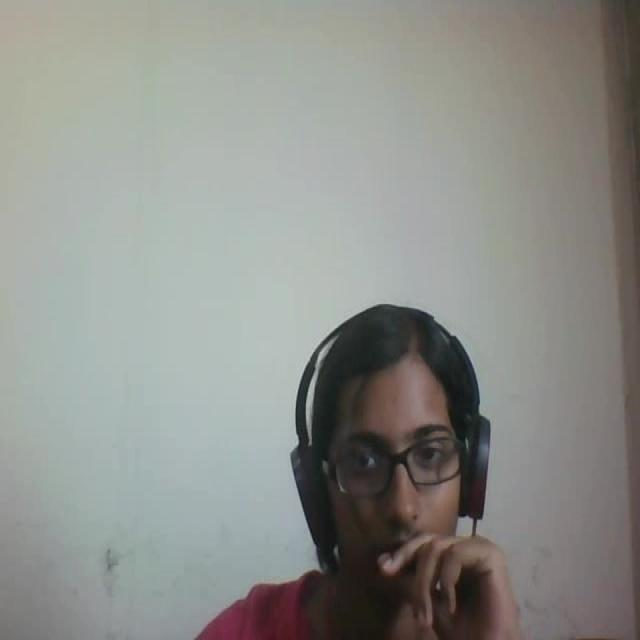Bored: (280, 295, 542, 636)
